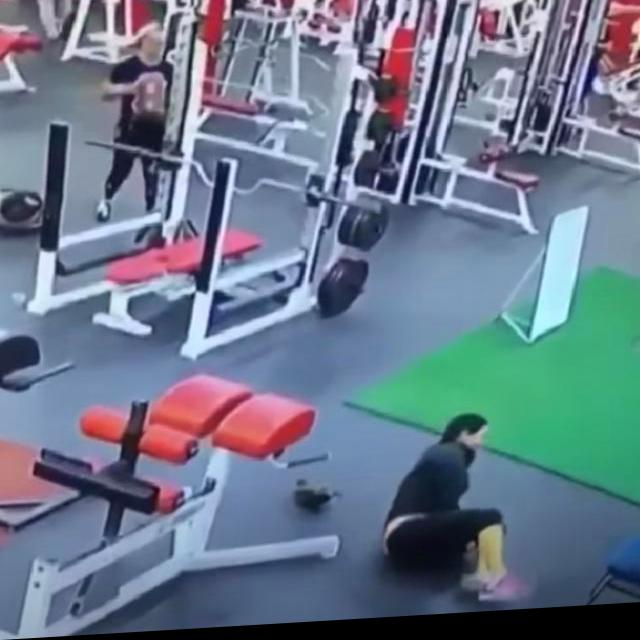fall: (377, 410, 512, 621)
